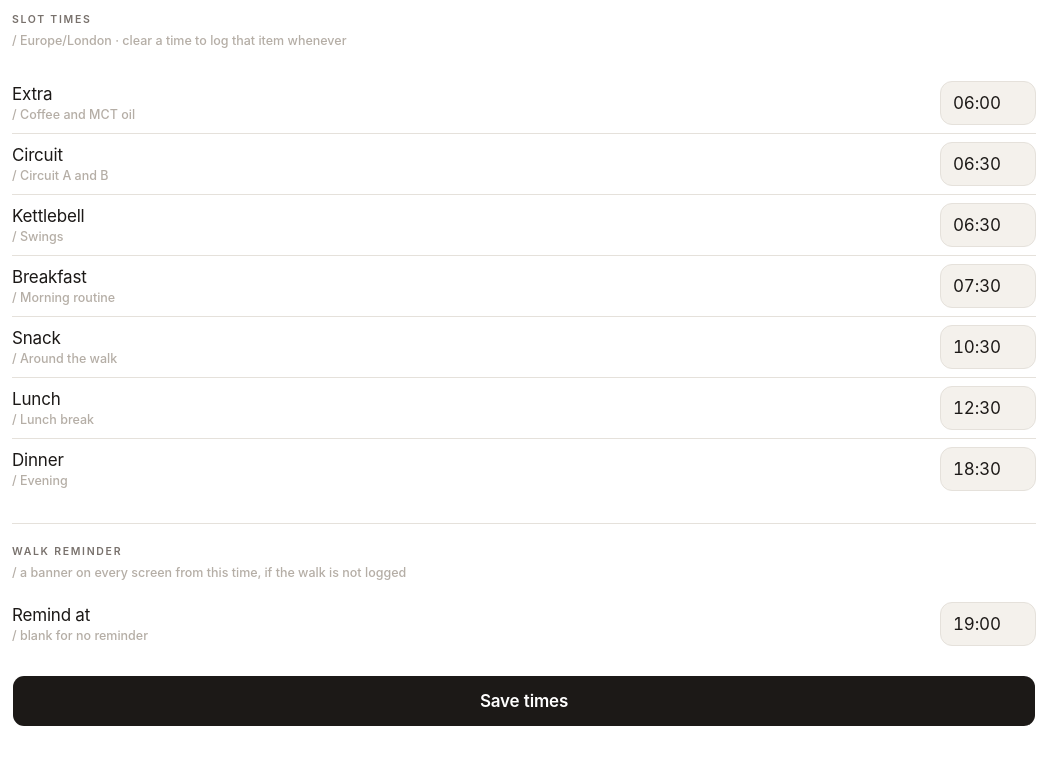
Scenario: submitting › reports a save without congratulating — § Voice
This screenshot has width=1048, height=780.
Click the button "Save times": (524, 701) top-left (12, 675), bottom-right (1036, 727)
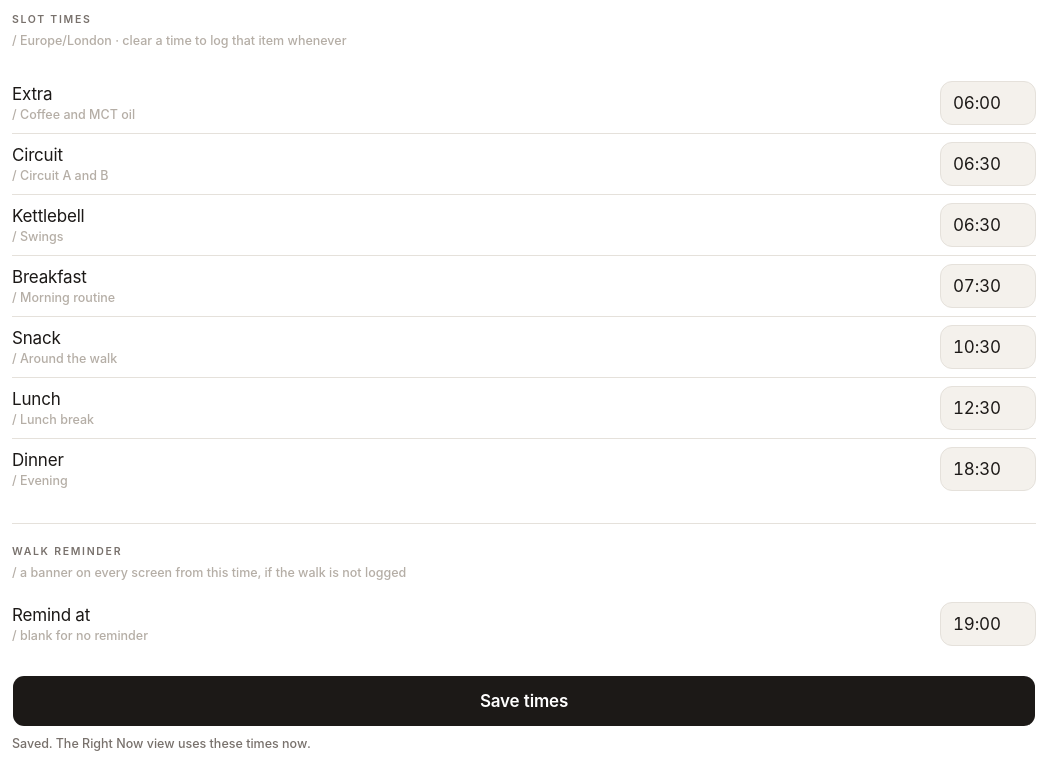
Expected: the text "Saved. The Right Now view uses these times now." is shown, top-left (12, 736), bottom-right (311, 751)
